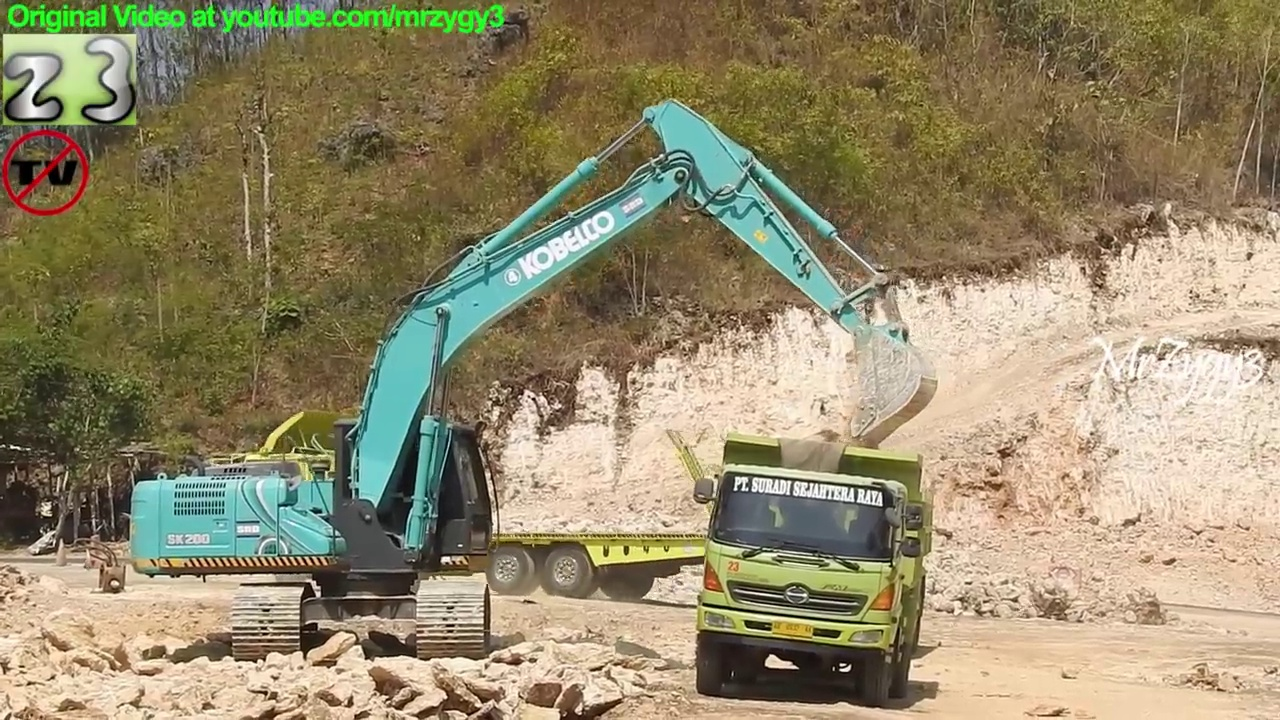excavator: (120, 93, 944, 668)
truck: (196, 403, 761, 605), (691, 426, 938, 710)
